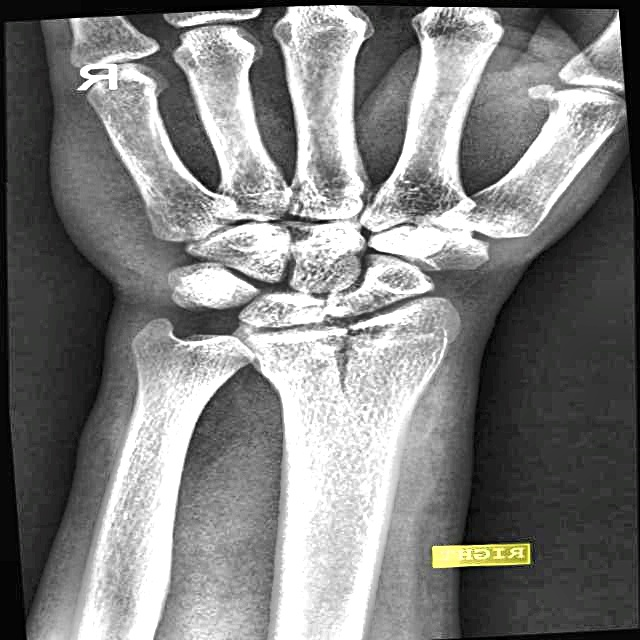Linear: (284, 308, 387, 409)
